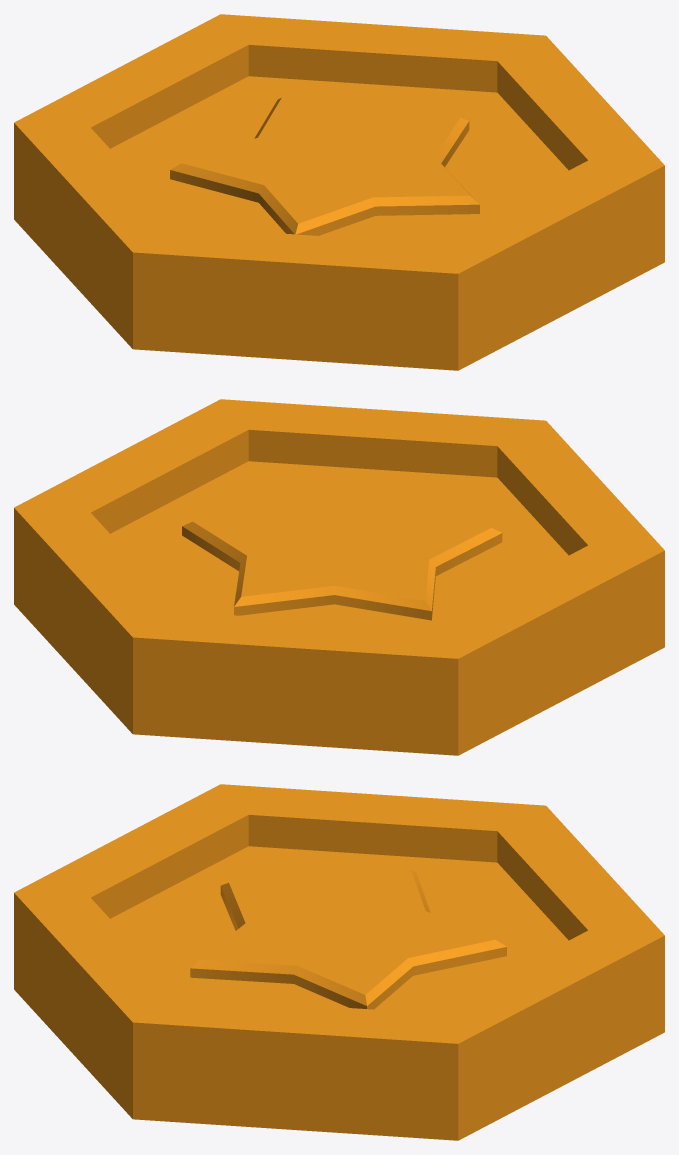
The model's file is CoinChest.FBX.
The picture shows the model from 3 angles, top to bottom: view 1: azimuth 30°, elevation 25°; view 2: azimuth 150°, elevation 25°; view 3: azimuth 270°, elevation 25°; orthographic projection.
Visible parts, largest first — view 1: CoinChest; view 2: CoinChest; view 3: CoinChest.
Boxes of the visible parts, x1,y1,x2,y2 form: CoinChest: (14, 14, 664, 370); CoinChest: (14, 399, 664, 755); CoinChest: (14, 784, 664, 1140).
Bounding box in the file's own units: 35.2 × 6.13 × 37.3.
